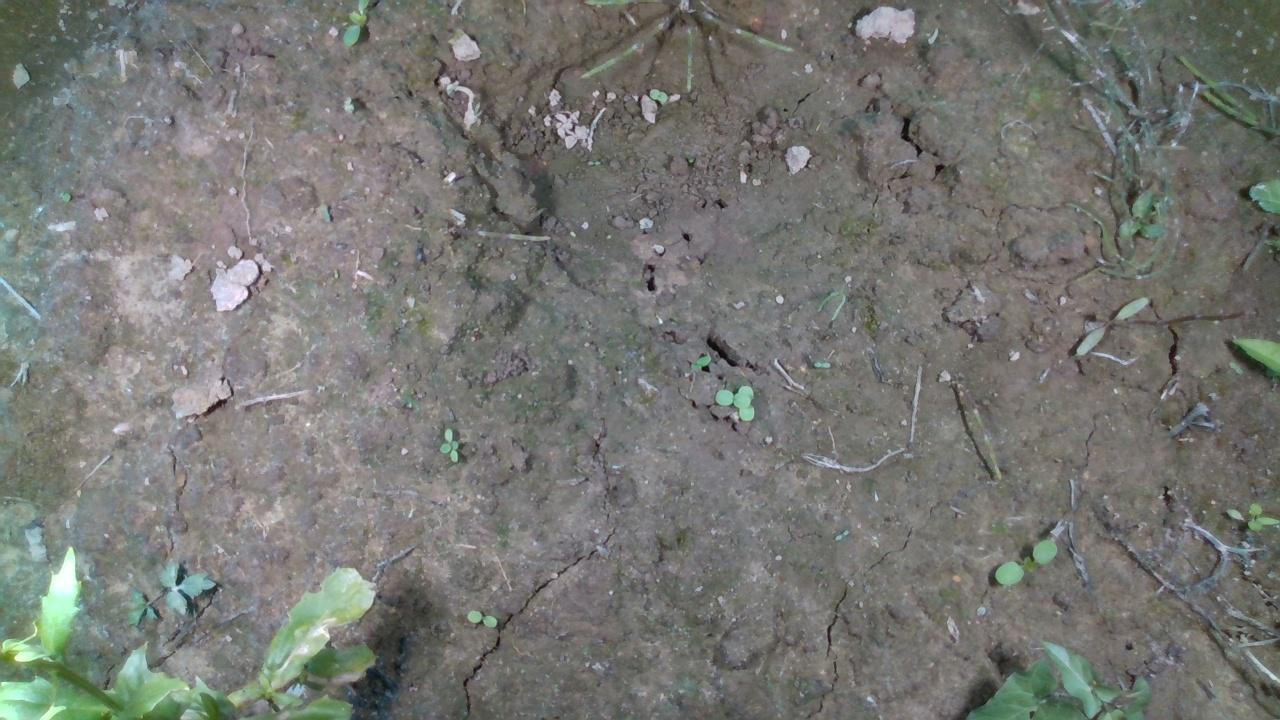weed: (1071, 296, 1149, 356), (992, 537, 1058, 584), (436, 422, 476, 464), (463, 606, 509, 635), (811, 356, 851, 371)
